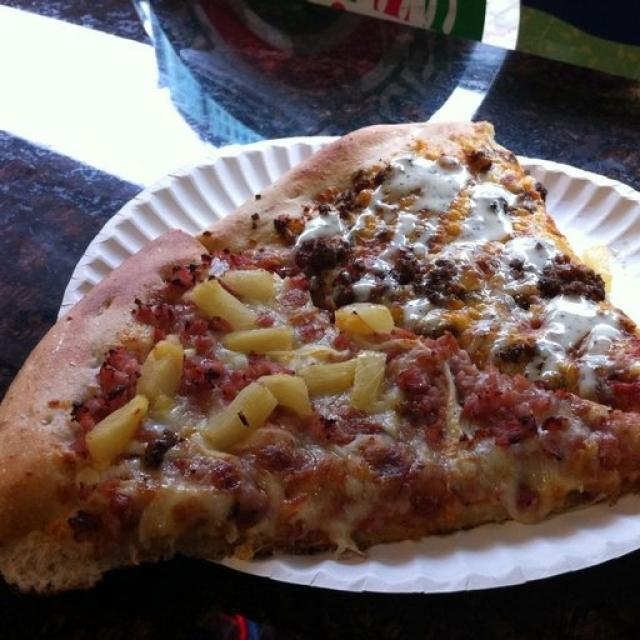Beef: (394, 256, 474, 316), (521, 262, 621, 306), (304, 237, 360, 303), (494, 330, 547, 362), (461, 147, 500, 182), (514, 184, 540, 219)
Ham: (402, 344, 555, 442), (169, 451, 261, 498), (160, 306, 229, 356), (90, 352, 144, 401), (285, 290, 327, 342), (223, 359, 277, 391), (166, 255, 216, 287), (186, 358, 213, 388)
Pizza: (0, 124, 640, 590)
